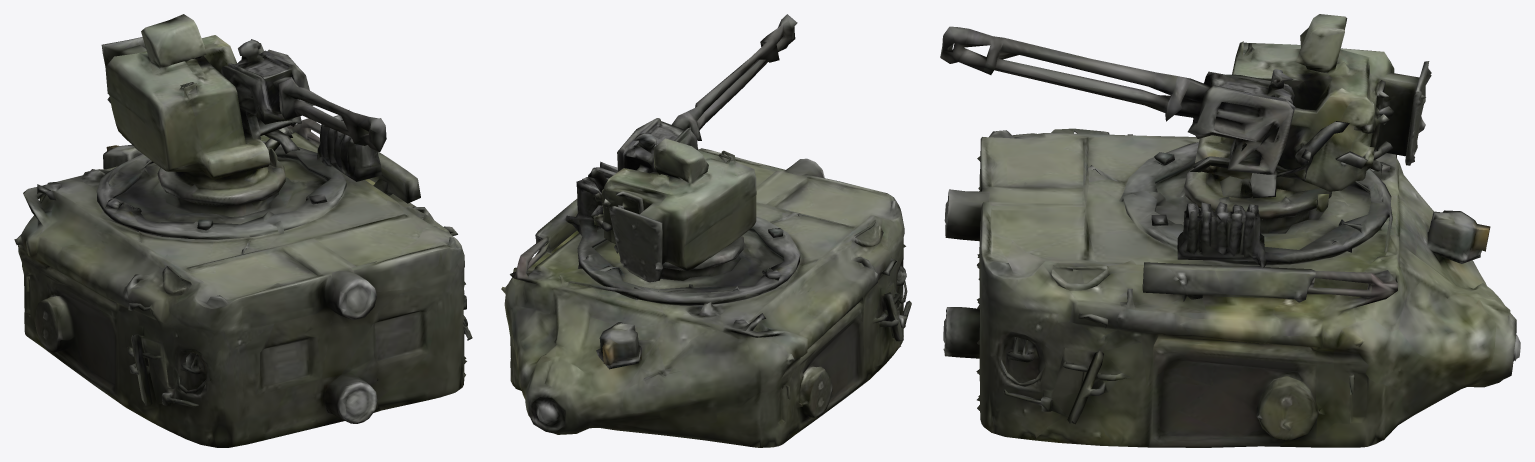
The picture shows the model from 3 angles, left to right: view 1: azimuth 30°, elevation 25°; view 2: azimuth 150°, elevation 25°; view 3: azimuth 270°, elevation 25°; orthographic projection. The views are drawn at different scales.
Visible parts, largest first — view 1: tripo_node_c1826d51-1902-4126-b7cc-53bb58da838e; view 2: tripo_node_c1826d51-1902-4126-b7cc-53bb58da838e; view 3: tripo_node_c1826d51-1902-4126-b7cc-53bb58da838e.
Part boxes in pixels (x1=…): tripo_node_c1826d51-1902-4126-b7cc-53bb58da838e: x1=14, y1=14, x2=472, y2=447; tripo_node_c1826d51-1902-4126-b7cc-53bb58da838e: x1=501, y1=14, x2=911, y2=447; tripo_node_c1826d51-1902-4126-b7cc-53bb58da838e: x1=940, y1=14, x2=1520, y2=447.
Bounding box in the file's own units: 0.7274 × 0.6501 × 0.9747.
Materials: 1 (1 with a texture image).
